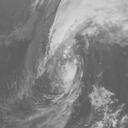cyclone: (45, 44, 83, 96)
